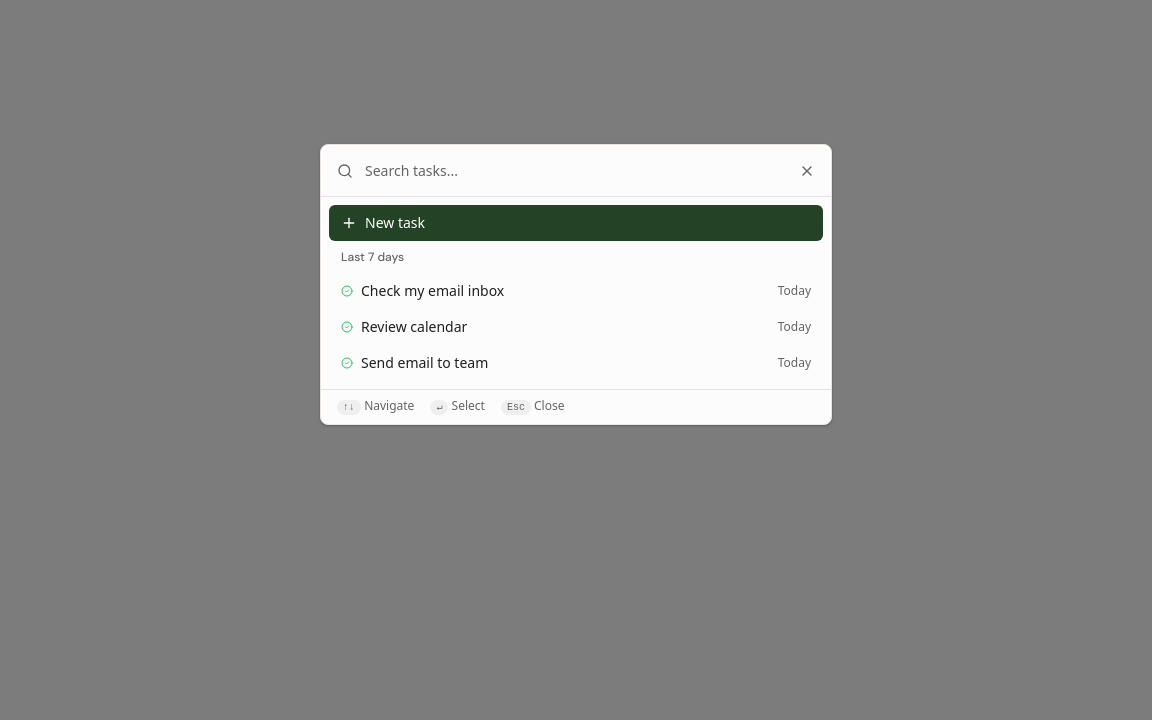
Test: TaskLauncher › task filtering › should filter tasks by search query
Type "email" into the field with placeholder "Search tasks...".
click(576, 170); type("email")  # box [365,157,787,184]
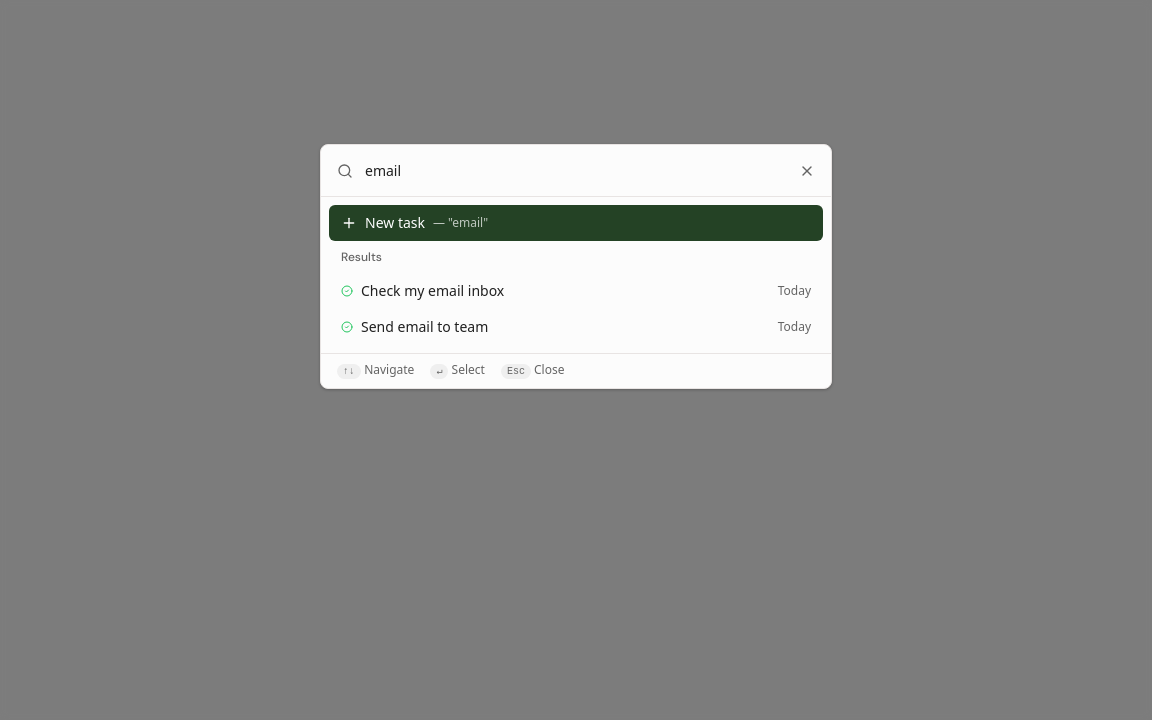
Check: the text "Check my email inbox" is shown, box [361,281,504,300]
Check: the button "Review calendar" is gone
